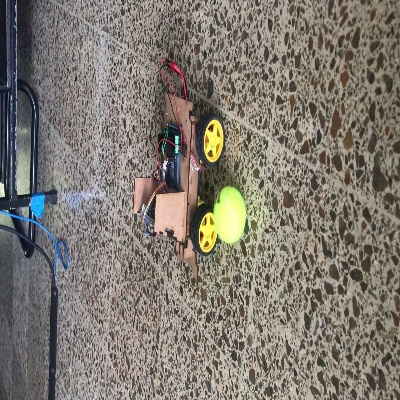Ball: (214, 185, 246, 243)
Robot: (134, 90, 225, 283)
